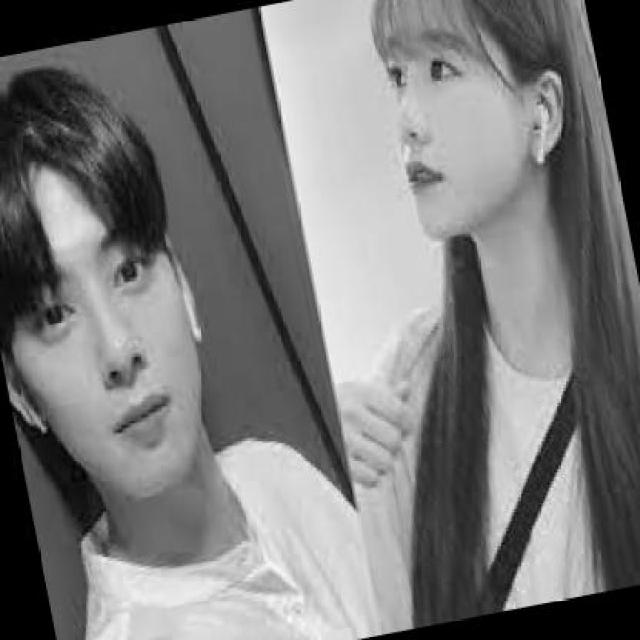earphone: (514, 97, 560, 171), (14, 386, 65, 448), (178, 284, 219, 354)
